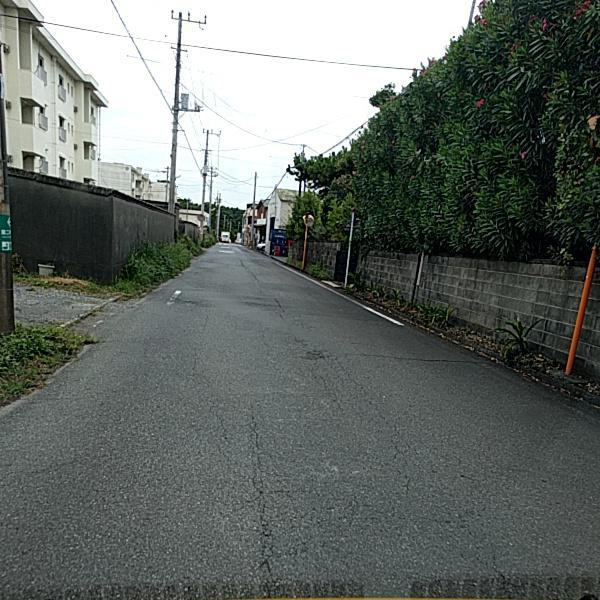D00: (229, 402, 286, 599), (328, 349, 482, 369)
